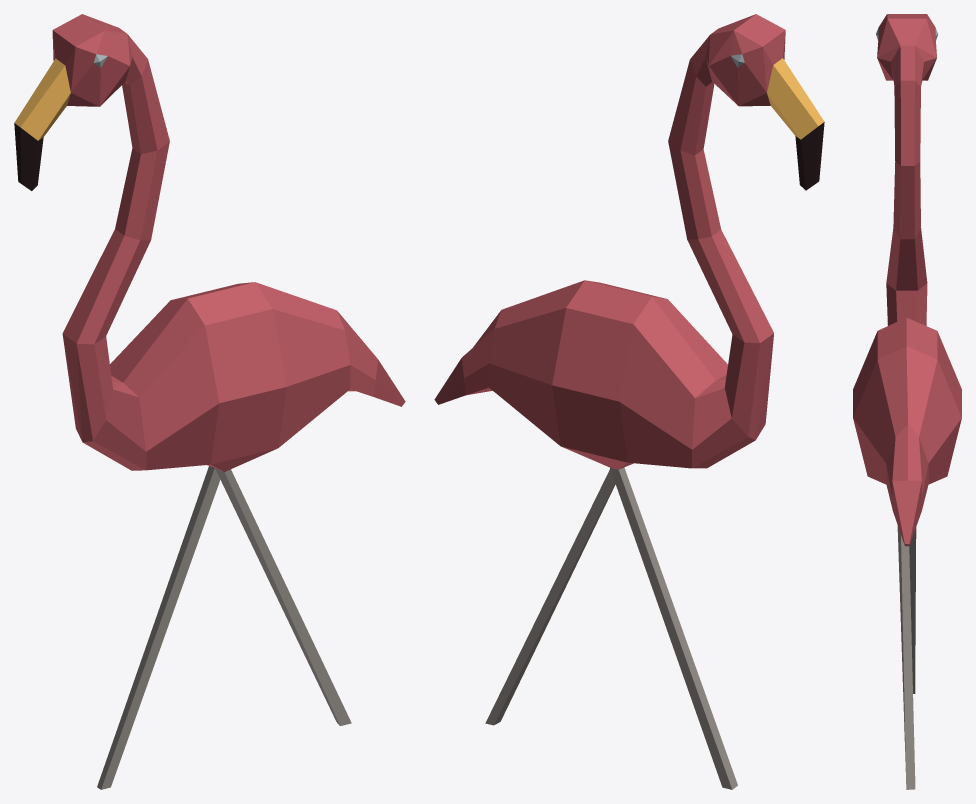
File: pinkFlamingo.glb
The picture shows the model from 3 angles, left to right: view 1: azimuth 30°, elevation 25°; view 2: azimuth 150°, elevation 25°; view 3: azimuth 270°, elevation 25°; orthographic projection. The views are drawn at different scales.
Parts seen in each view (by area): view 1: SM_Prop_Flamingo_01; view 2: SM_Prop_Flamingo_01; view 3: SM_Prop_Flamingo_01.
Part boxes in pixels (x1=…): SM_Prop_Flamingo_01: x1=14, y1=14, x2=405, y2=789; SM_Prop_Flamingo_01: x1=434, y1=14, x2=824, y2=789; SM_Prop_Flamingo_01: x1=853, y1=14, x2=961, y2=789.
Bounding box in the file's own units: 0.7537 × 1.43 × 0.2117.
Materials: 1 (1 with a texture image).
